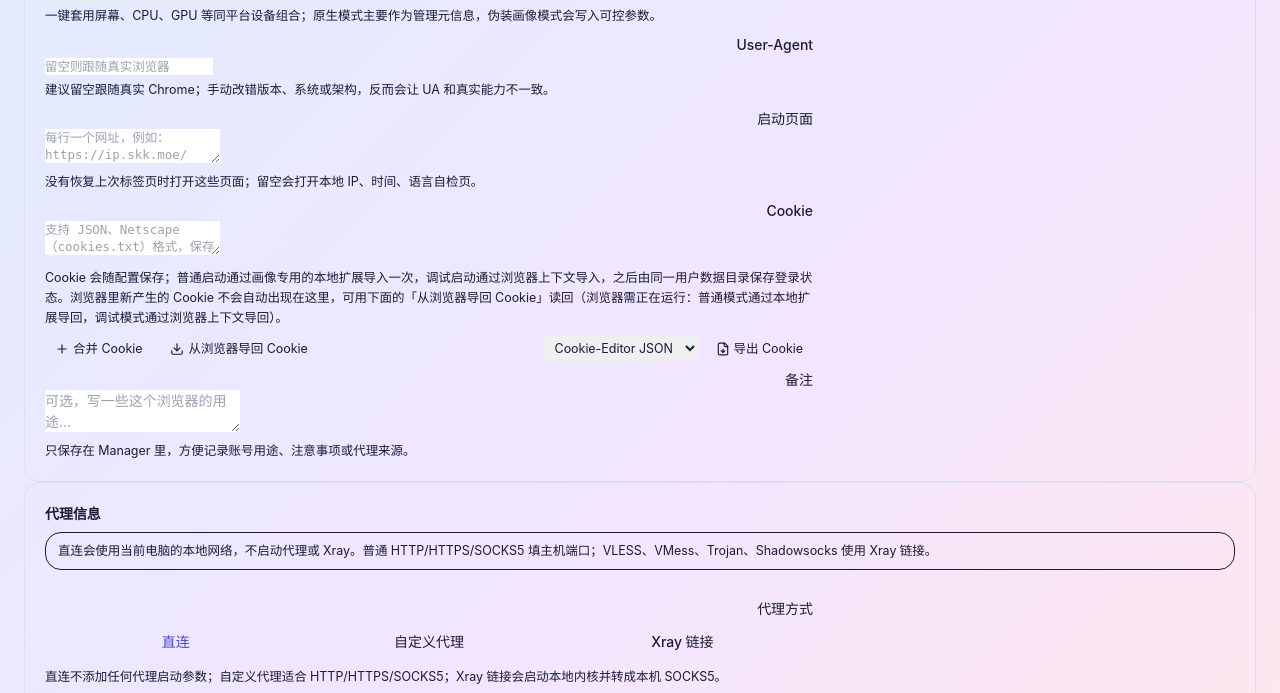
Test: ProfileForm cookies and layout › shows the backend error when the browser cannot be read
(page scrolled)
Click the button "从浏览器导回 Cookie": (239, 348) [160,340,318,357]
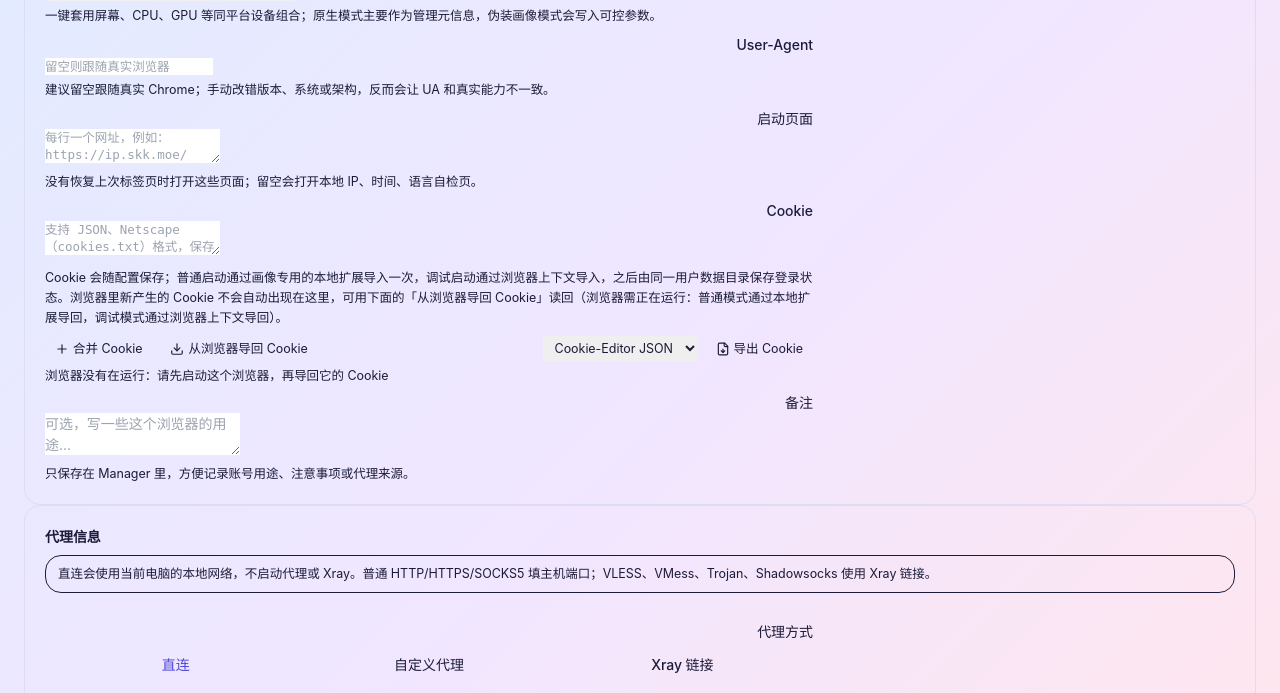
Expected: the text box with placeholder "支持 JSON、Netscape" is empty, [45,221,220,255]
Result: the text "浏览器没有在运行：请先启动这个浏览器，再导回它的 Cookie" is shown at [45,368,388,383]
